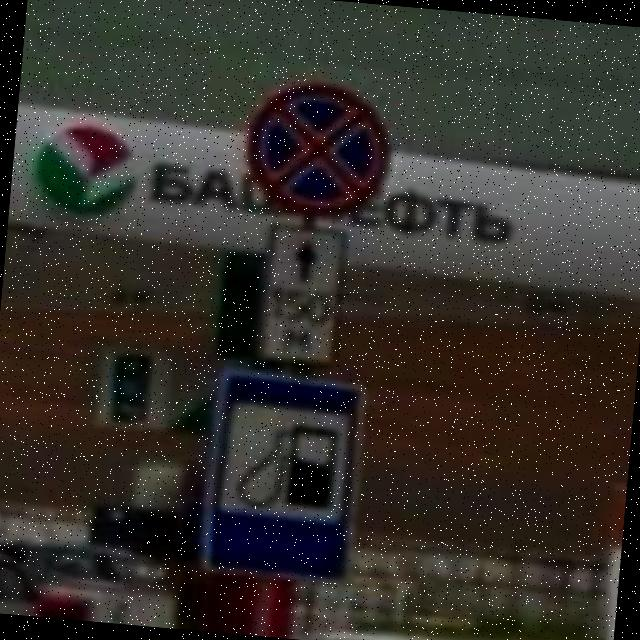Zakaz zatrzymywania sie: (240, 75, 396, 221)
